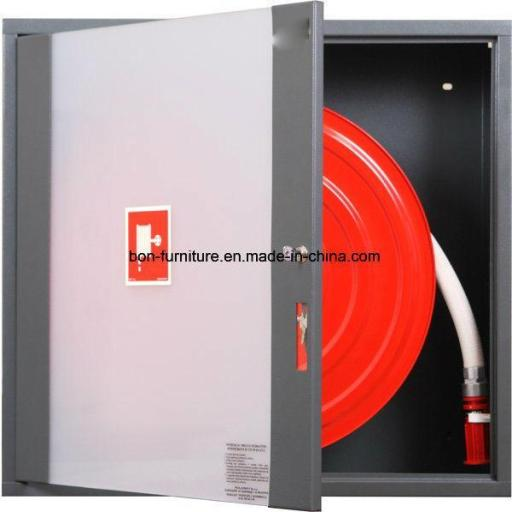fire_hose: (0, 0, 512, 503)
